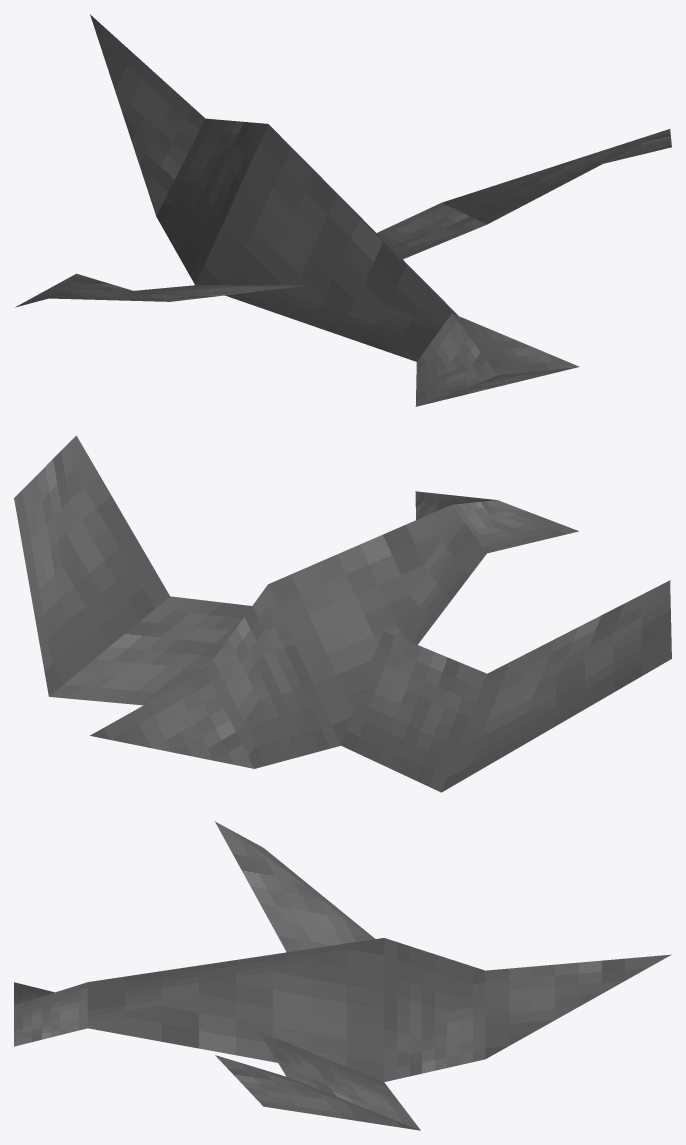
The model's file is BIRD.obj.
3 renders of one model, top to bottom at view 1: azimuth 30°, elevation 25°; view 2: azimuth 150°, elevation 25°; view 3: azimuth 270°, elevation 25°, orthographic. The views are drawn at different scales.
Visible parts, largest first — view 1: Cube; view 2: Cube; view 3: Cube.
Part boxes in pixels (x1,y1,x2,y2): Cube: (15,14,671,406); Cube: (14,435,671,792); Cube: (14,821,671,1130).
Size of the model in its own units: 64.03 by 13.35 by 68.76.
1 material, 1 textured.
